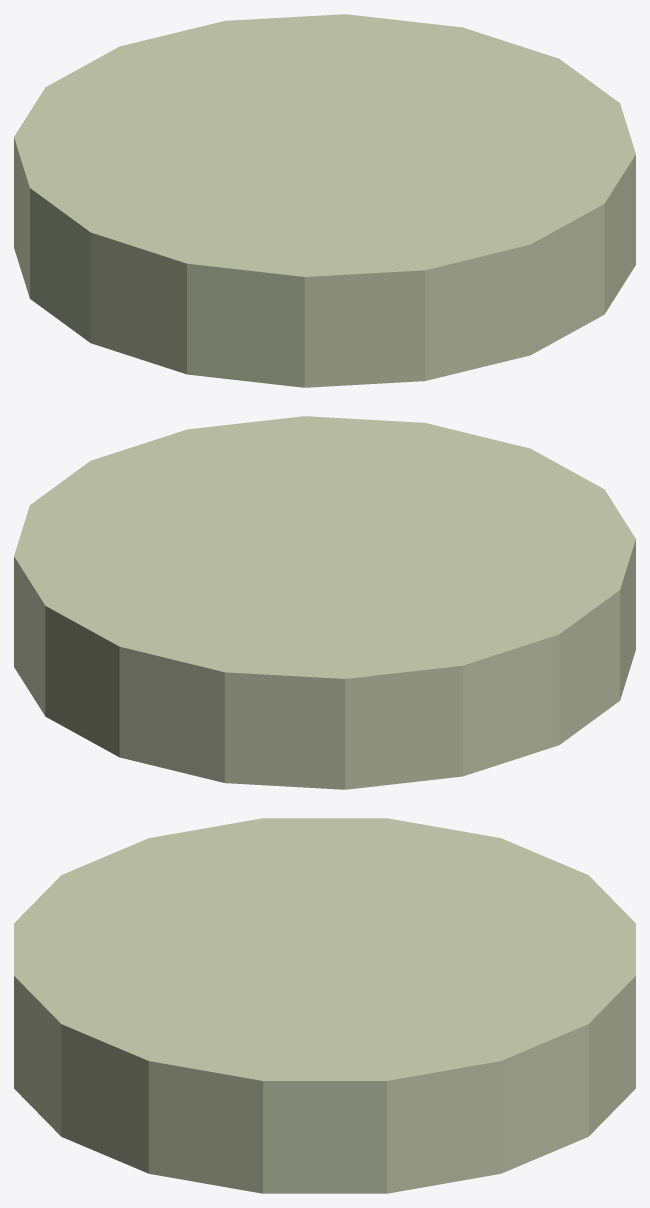
The model's file is Castor_Decoupler_1_N_Collider.obj.
3 renders of one model, top to bottom at view 1: azimuth 30°, elevation 25°; view 2: azimuth 150°, elevation 25°; view 3: azimuth 270°, elevation 25°, orthographic.
Visible parts, largest first — view 1: Castor_Decoupler_1_N_Collider; view 2: Castor_Decoupler_1_N_Collider; view 3: Castor_Decoupler_1_N_Collider.
Part boxes in pixels (box(x1,y1,x2,y2)): Castor_Decoupler_1_N_Collider: box(14, 14, 635, 387); Castor_Decoupler_1_N_Collider: box(14, 416, 635, 789); Castor_Decoupler_1_N_Collider: box(14, 818, 635, 1193).
Bounding box in the file's own units: 0.625 × 0.125 × 0.625.
